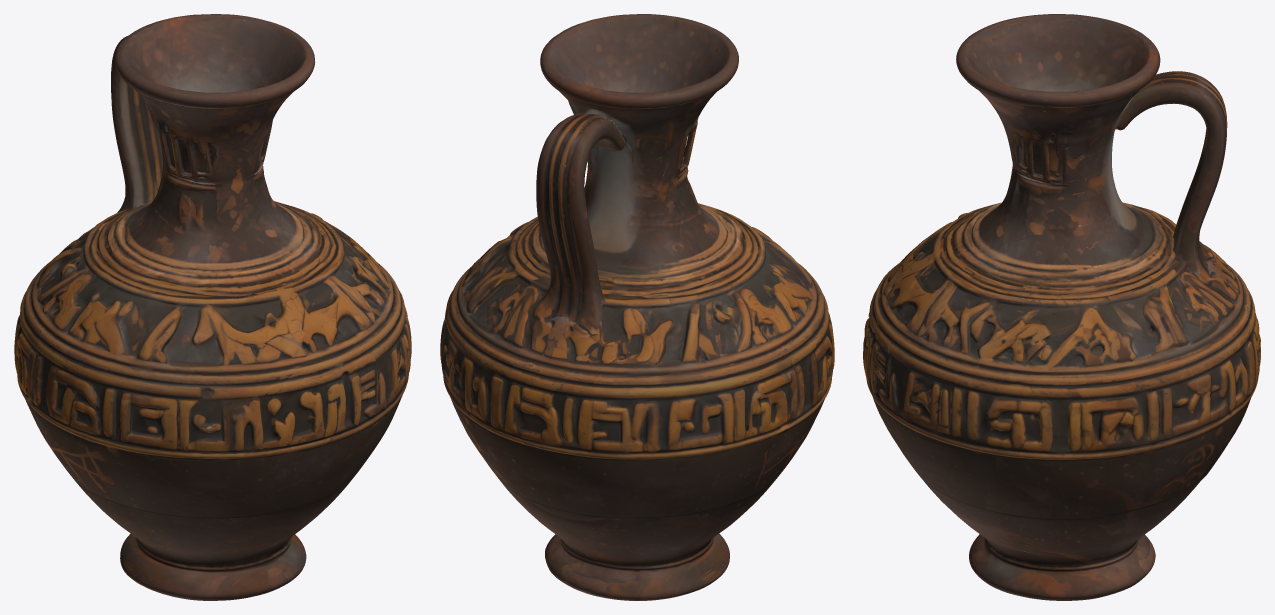
The model's file is prop-urn-ancient.glb.
3 views of the same model, side by side, from view 1: azimuth 30°, elevation 25°; view 2: azimuth 150°, elevation 25°; view 3: azimuth 270°, elevation 25° (orthographic).
Visible parts, largest first — view 1: tripo_node_75eb5382-771b-475c-b9ca-7f67bc18a9a5; view 2: tripo_node_75eb5382-771b-475c-b9ca-7f67bc18a9a5; view 3: tripo_node_75eb5382-771b-475c-b9ca-7f67bc18a9a5.
Part boxes in pixels (left/top/right/bottom): tripo_node_75eb5382-771b-475c-b9ca-7f67bc18a9a5: left=14, top=14, right=411, bottom=600; tripo_node_75eb5382-771b-475c-b9ca-7f67bc18a9a5: left=440, top=14, right=834, bottom=600; tripo_node_75eb5382-771b-475c-b9ca-7f67bc18a9a5: left=863, top=14, right=1260, bottom=600.
Size of the model in its own units: 1.05 by 1.5 by 1.05.
Materials: 1 (1 with a texture image).
